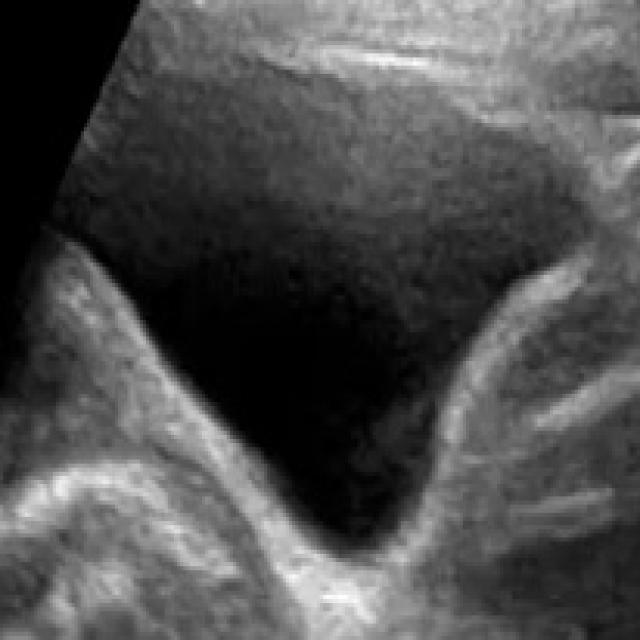bladder: (47, 5, 631, 598)
